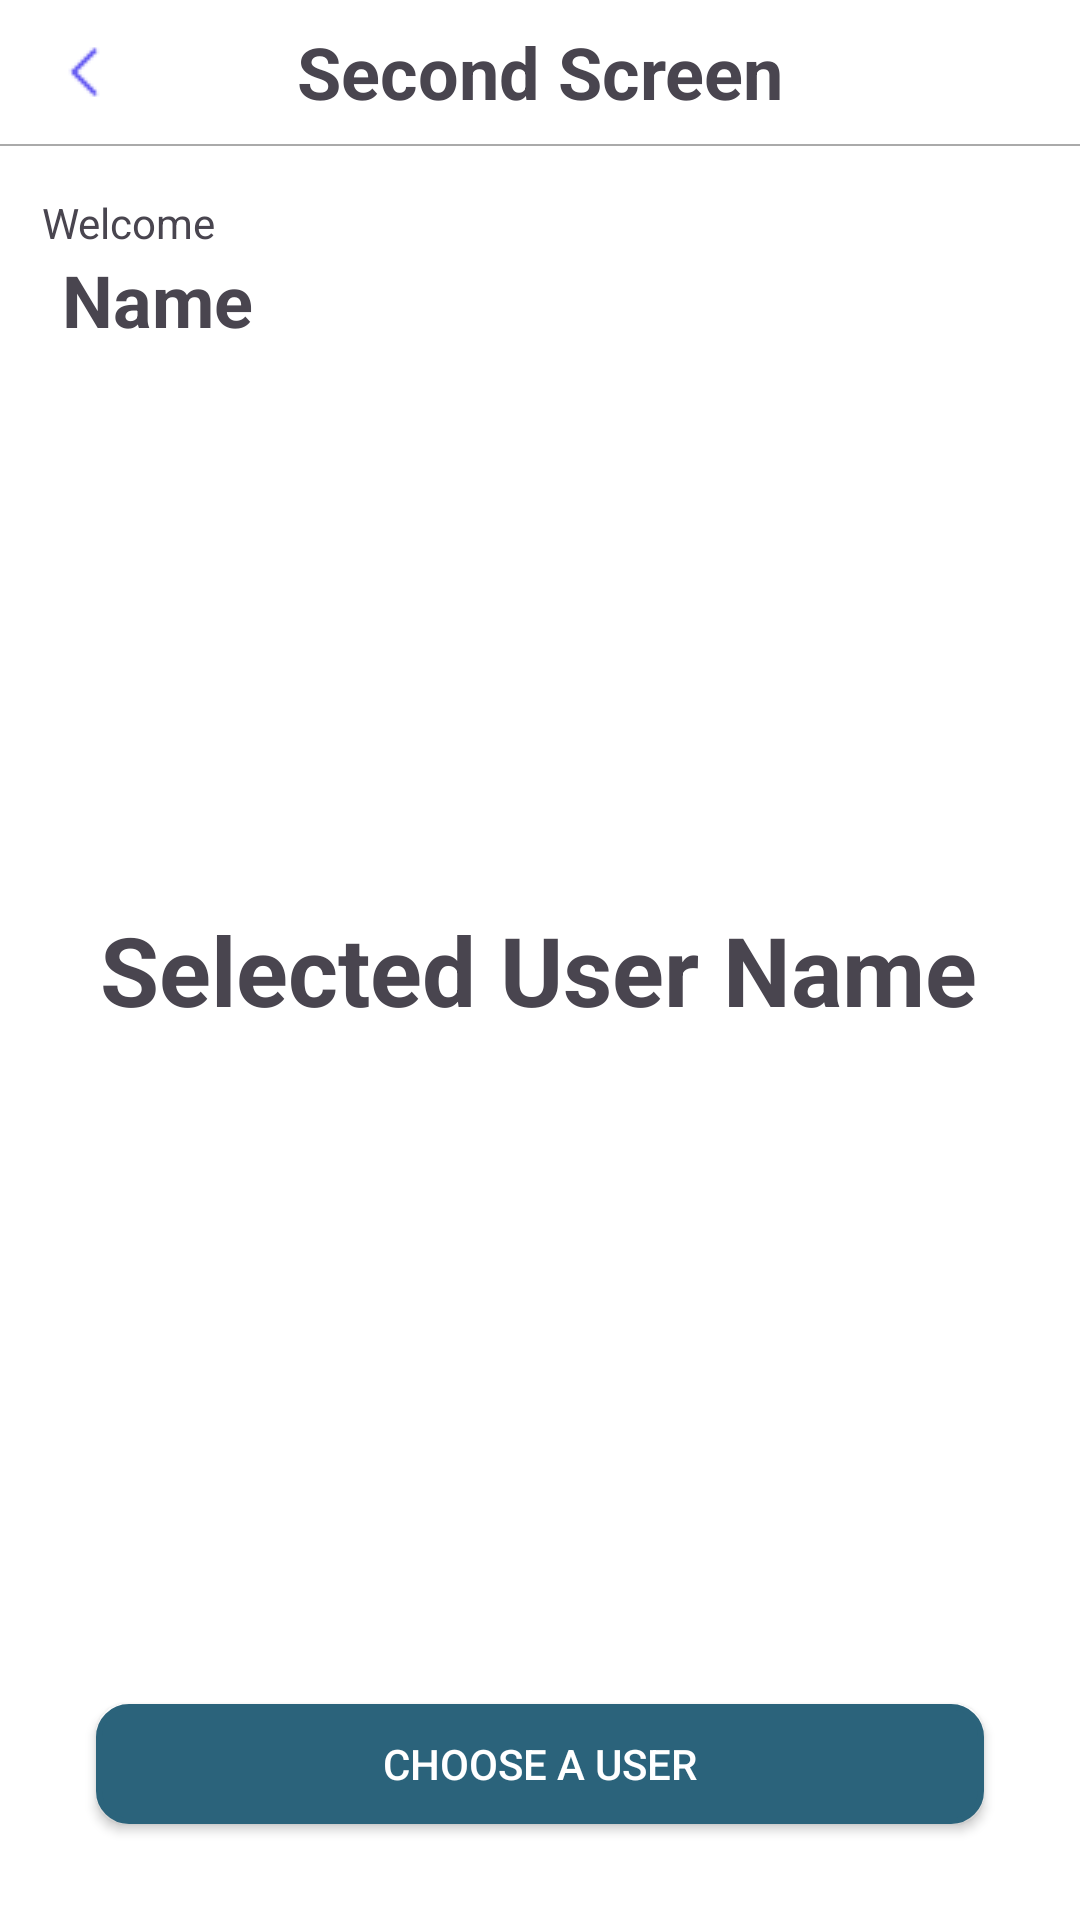

Screen size 1080px×1920px. Icon name, then its center in pixels as (x,y):
back: (84,72)
